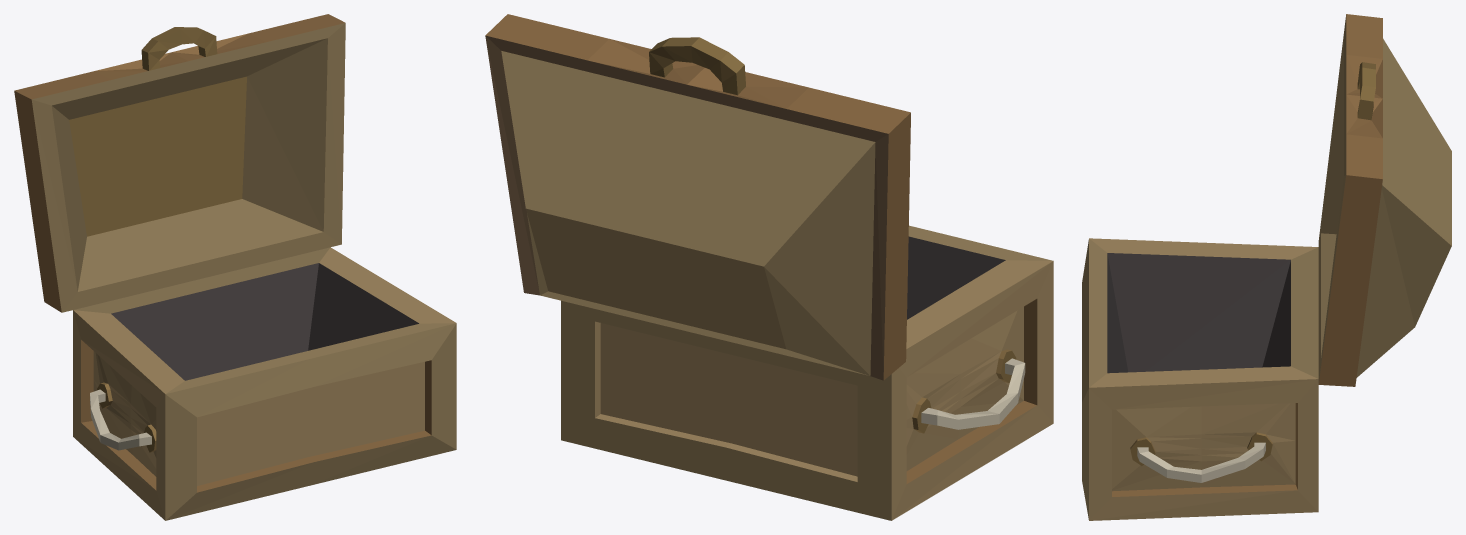
File: costume-room.gltf
3 renders of one model, left to right at view 1: azimuth 30°, elevation 25°; view 2: azimuth 150°, elevation 25°; view 3: azimuth 270°, elevation 25°, orthographic. The views are drawn at different scales.
Size of the model in its own units: 166 by 182 by 161.
Materials: 1 (1 with a texture image).
